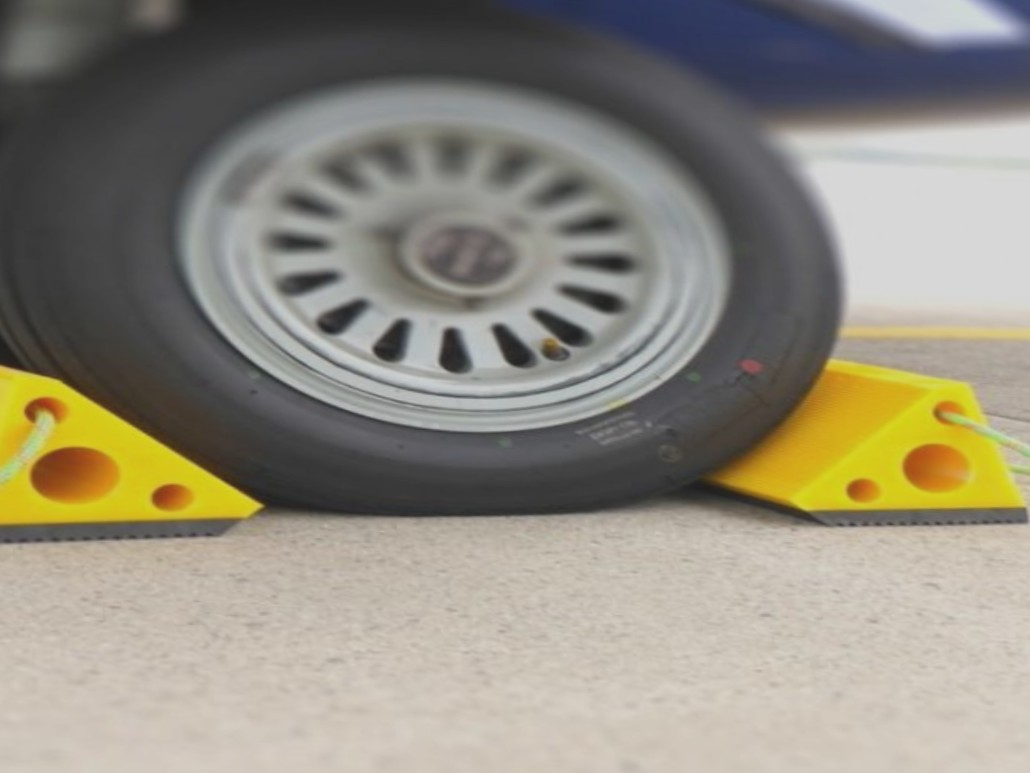chock: (674, 349, 1030, 534), (0, 329, 273, 557)
wheel: (0, 0, 888, 532)
